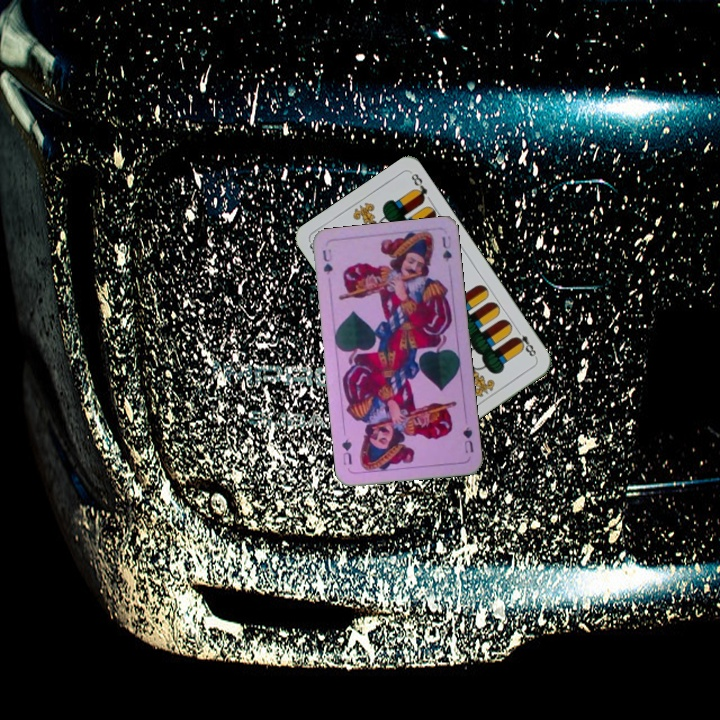E8: (510, 325, 539, 361)
GU: (459, 422, 476, 456), (319, 245, 335, 277)
